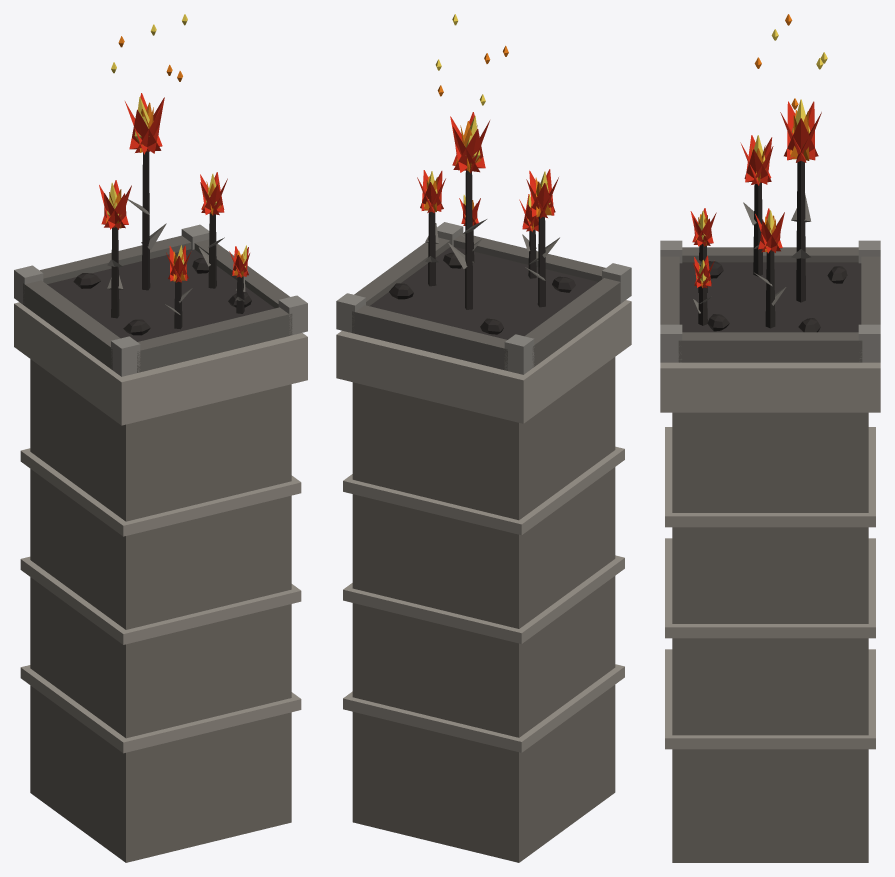
Rendered from decor_fire_lilies.glb.
The picture shows the model from 3 angles, left to right: view 1: azimuth 30°, elevation 25°; view 2: azimuth 150°, elevation 25°; view 3: azimuth 270°, elevation 25°; orthographic projection. The views are drawn at different scales.
Visible parts, largest first — view 1: decor_fire_lilies; view 2: decor_fire_lilies; view 3: decor_fire_lilies.
Part boxes in pixels (x1,y1,x2,y2): decor_fire_lilies: (14, 14, 307, 862); decor_fire_lilies: (336, 14, 631, 862); decor_fire_lilies: (660, 14, 880, 862).
Size of the model in its own units: 1.8 by 7.25 by 1.8.
